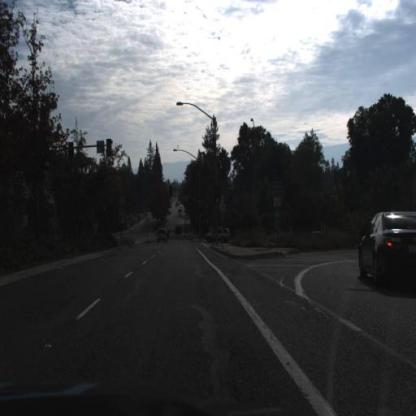car: (358, 208, 416, 291), (204, 228, 232, 244), (156, 227, 170, 244), (175, 224, 184, 239)
trafficLight-Green: (215, 187, 223, 206), (199, 206, 205, 222), (169, 184, 174, 198)
